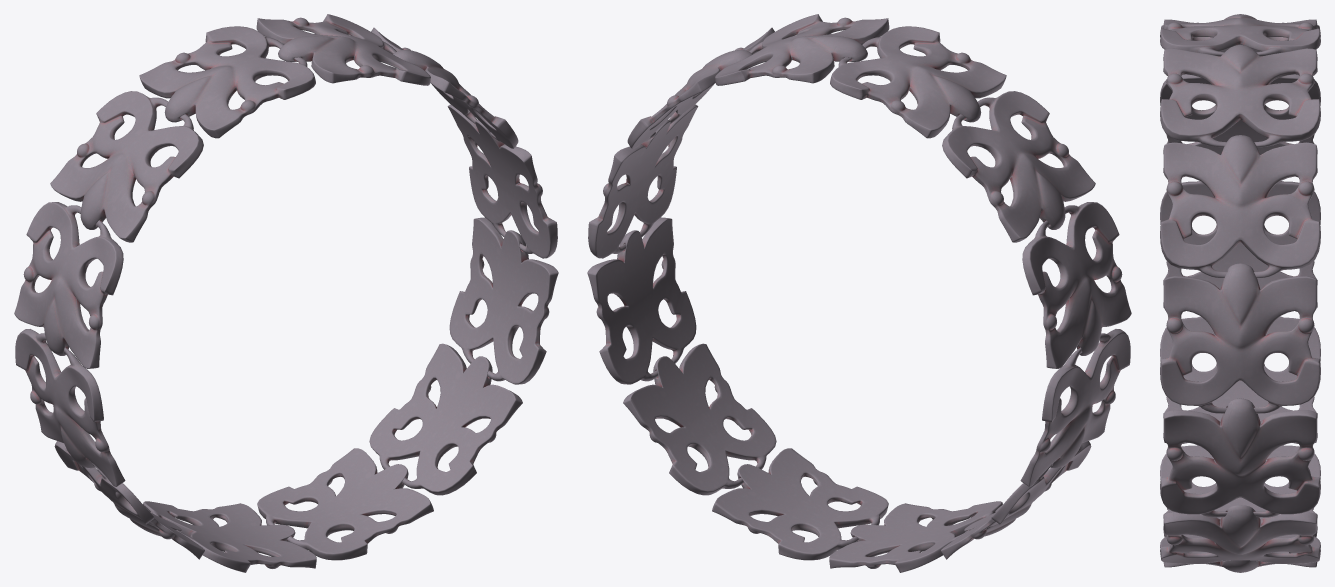
File: Pulsera2.glb
The picture shows the model from 3 angles, left to right: view 1: azimuth 30°, elevation 25°; view 2: azimuth 150°, elevation 25°; view 3: azimuth 270°, elevation 25°; orthographic projection.
Visible parts, largest first — view 1: 13090_bracelet_of_repeating_links_v1_L2; view 2: 13090_bracelet_of_repeating_links_v1_L2; view 3: 13090_bracelet_of_repeating_links_v1_L2.
Boxes of the visible parts, x1=… form: 13090_bracelet_of_repeating_links_v1_L2: x1=14, y1=14, x2=558, y2=572; 13090_bracelet_of_repeating_links_v1_L2: x1=587, y1=14, x2=1131, y2=572; 13090_bracelet_of_repeating_links_v1_L2: x1=1160, y1=14, x2=1320, y2=572.
Bounding box in the file's own units: 6.05 × 6.05 × 1.75.
1 material, 1 textured.
